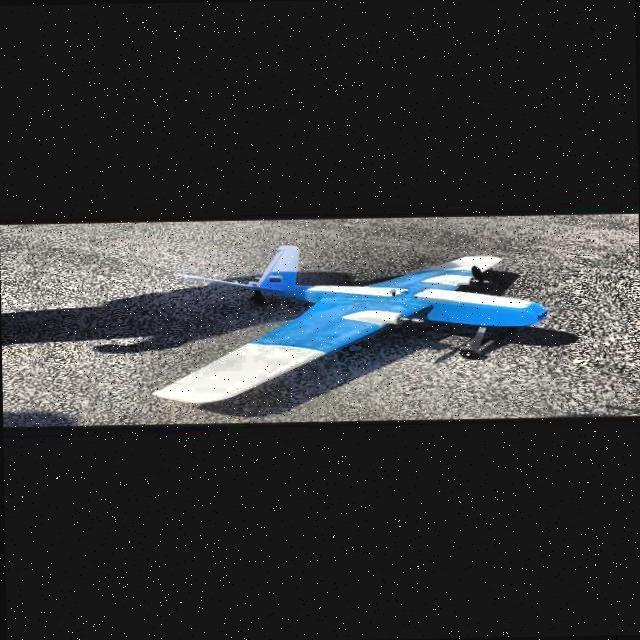iha: (154, 230, 559, 416)
